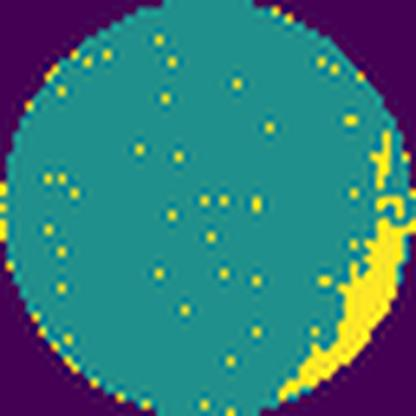Edge-Loc: (276, 130, 415, 404)
